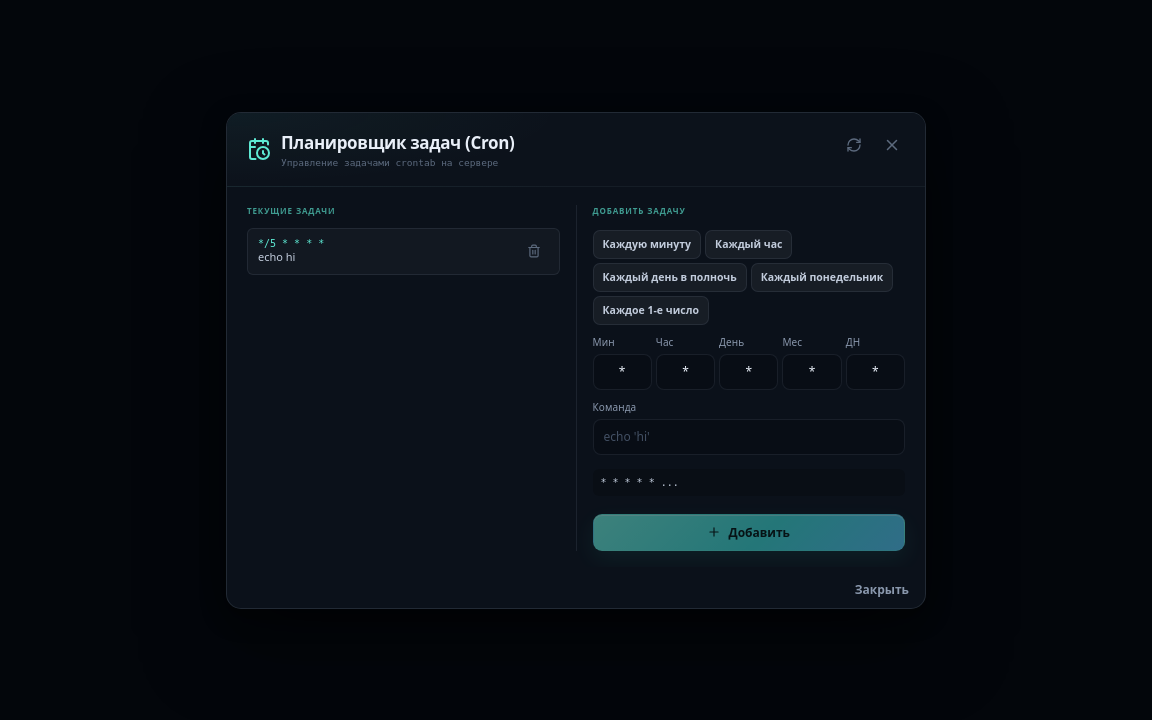
CronModal › удаляет задачу
Expected: the text "echo hi" is shown, [258,249,295,264]
Click the button titled "Удалить задачу".
click(534, 251)  # box [520,236,548,266]
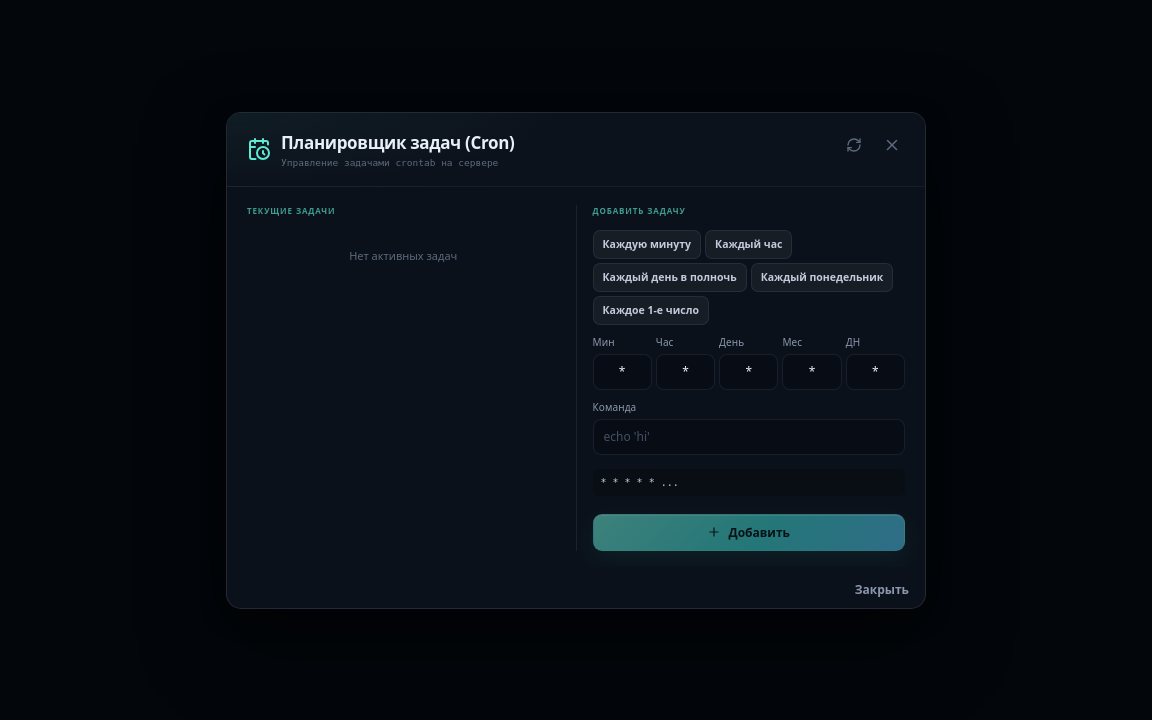
Result: the text "Нет активных задач" is shown at [349,248,457,262]
